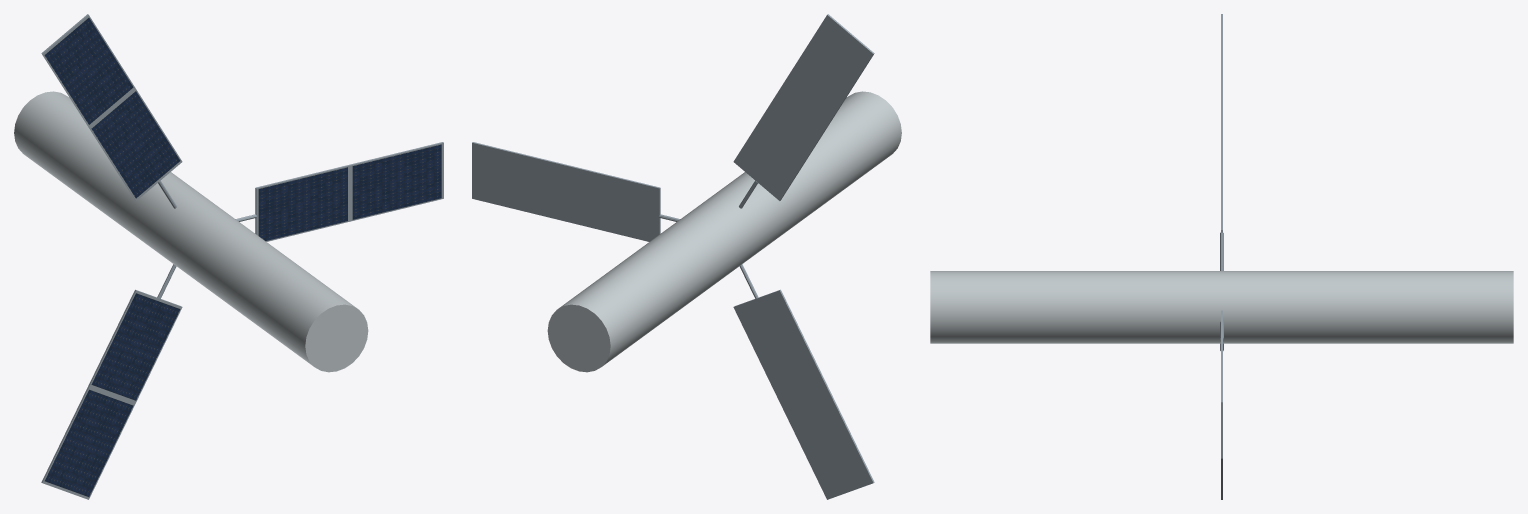
File: ref-seasat-10967.glb
3 views of the same model, side by side, from view 1: azimuth 30°, elevation 25°; view 2: azimuth 150°, elevation 25°; view 3: azimuth 270°, elevation 25° (orthographic).
Visible parts, largest first — view 1: Photovoltaic laminates (×6), Spacecraft body, Array frame (×6); view 2: Array frame (×6), Spacecraft body; view 3: Spacecraft body.
Boxes of the visible parts, bbox=[...] form: Photovoltaic laminates (×6): bbox=[44, 18, 441, 496]; Spacecraft body: bbox=[14, 91, 368, 372]; Array frame (×6): bbox=[41, 14, 443, 499]; Array frame (×6): bbox=[472, 14, 874, 499]; Spacecraft body: bbox=[547, 91, 901, 372]; Spacecraft body: bbox=[930, 271, 1513, 343].
Bounding box in the file's own units: 9.55 × 11.03 × 12.
Materials: 3 (1 with a texture image).
